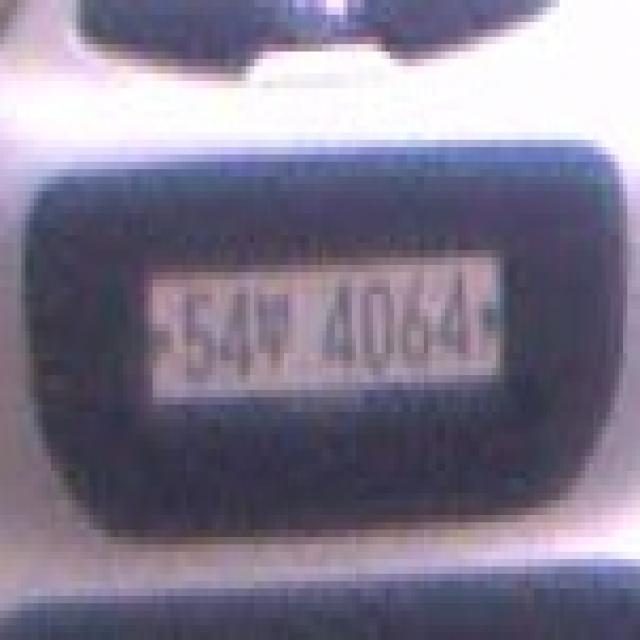0: (352, 272, 390, 383)
4: (432, 265, 488, 375), (314, 258, 356, 398), (220, 280, 254, 382)
5: (178, 280, 216, 382)
6: (394, 265, 437, 382)
bu: (246, 272, 292, 368)
license_plate: (140, 242, 517, 404)
